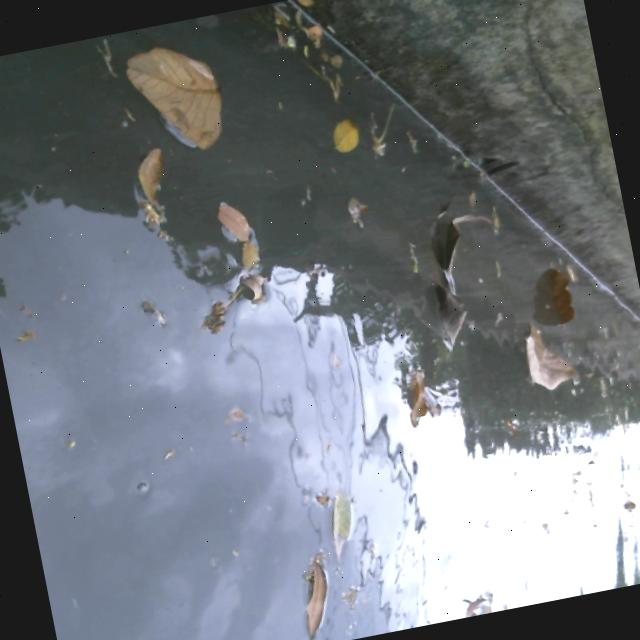Big-leaf: (118, 23, 232, 167), (404, 199, 508, 353), (511, 318, 583, 393), (398, 359, 450, 443), (537, 251, 580, 340)
Small-leaf: (111, 135, 178, 246), (292, 562, 347, 640), (319, 493, 375, 568), (313, 103, 356, 159), (212, 193, 259, 238), (476, 188, 509, 240), (334, 189, 376, 229), (556, 246, 588, 294), (235, 267, 277, 300), (231, 239, 268, 272), (319, 42, 352, 79), (311, 493, 341, 515), (303, 19, 328, 38)
